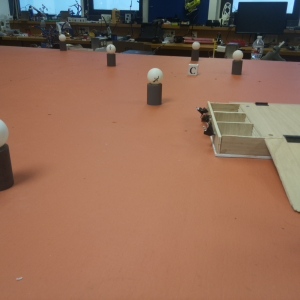obstacle: (1, 117, 14, 187), (146, 69, 164, 107), (231, 50, 243, 75), (105, 44, 116, 66), (192, 41, 200, 62), (58, 35, 68, 51)
side: (194, 100, 251, 158)
